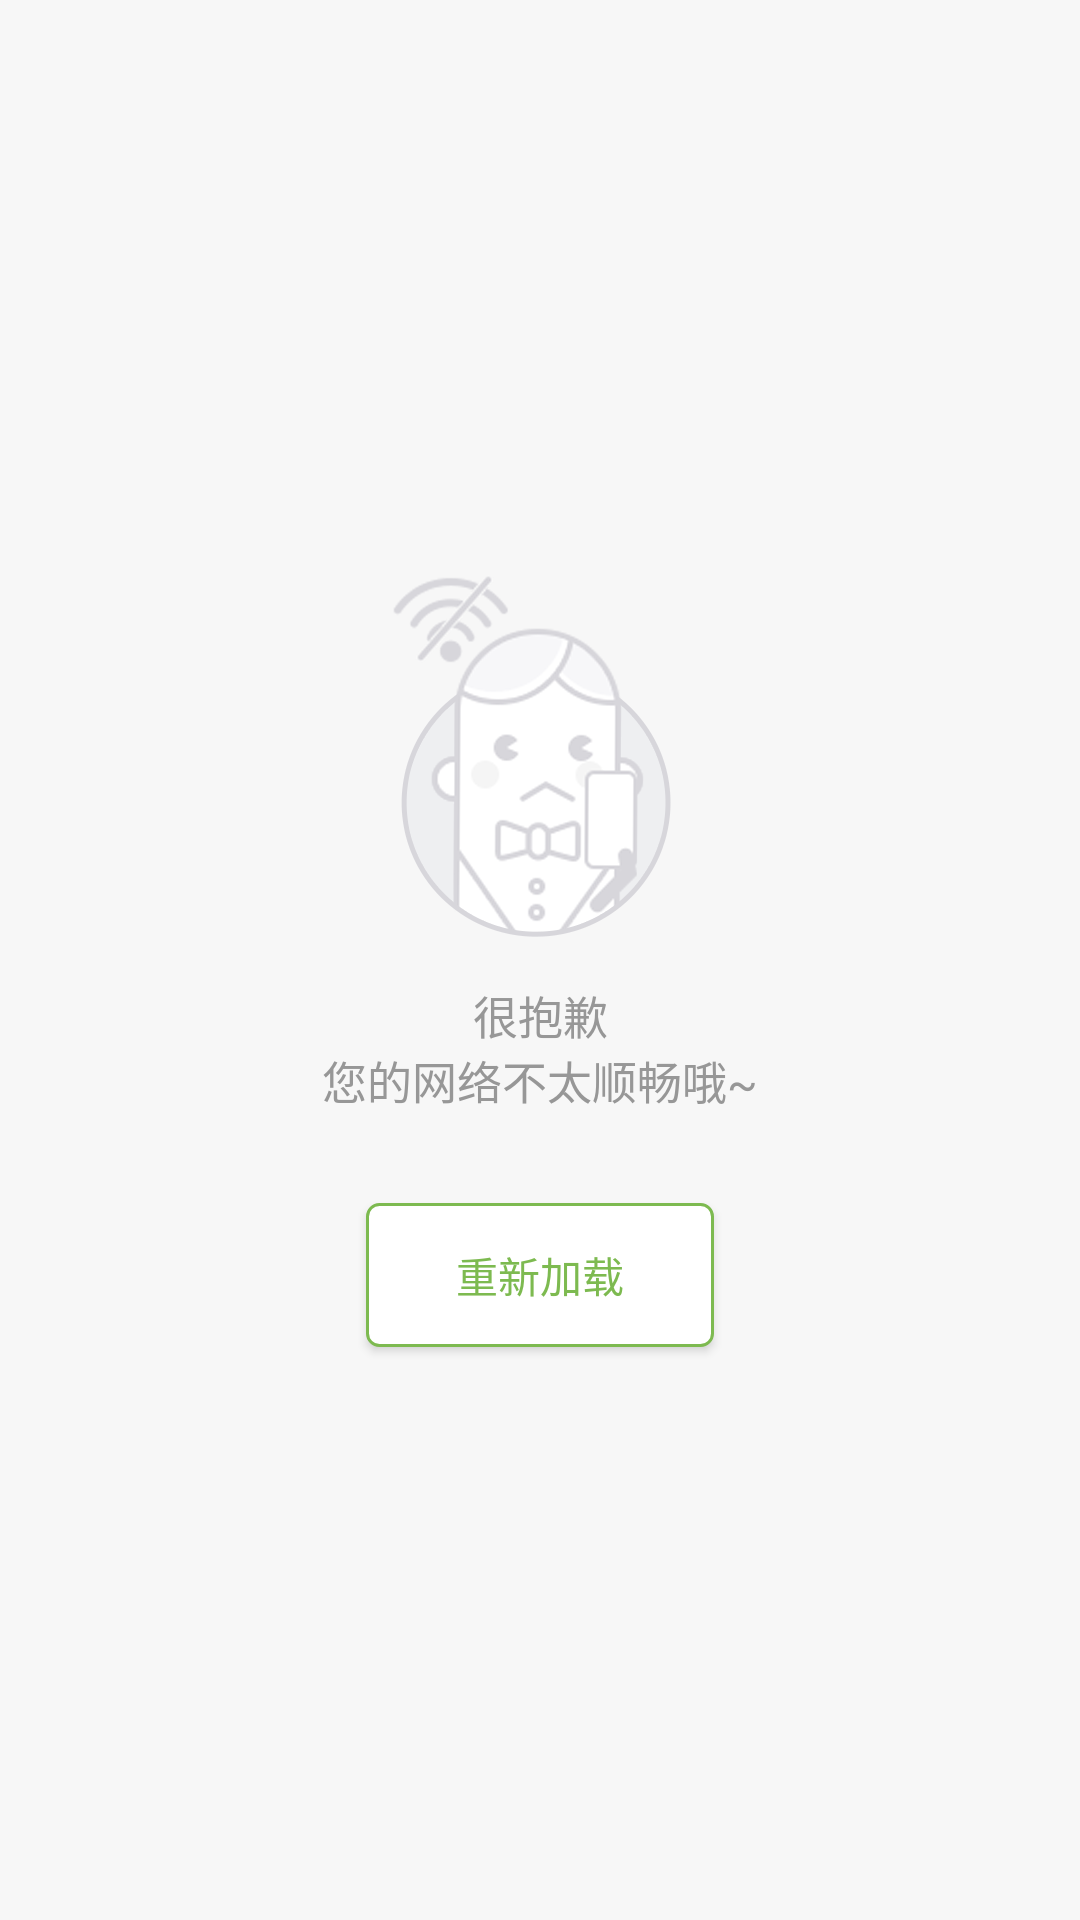

Point at icon controls on the screen. Image size 1080w x 1920h, points as (x=x, y=y).
nowifi: (x=532, y=756)
